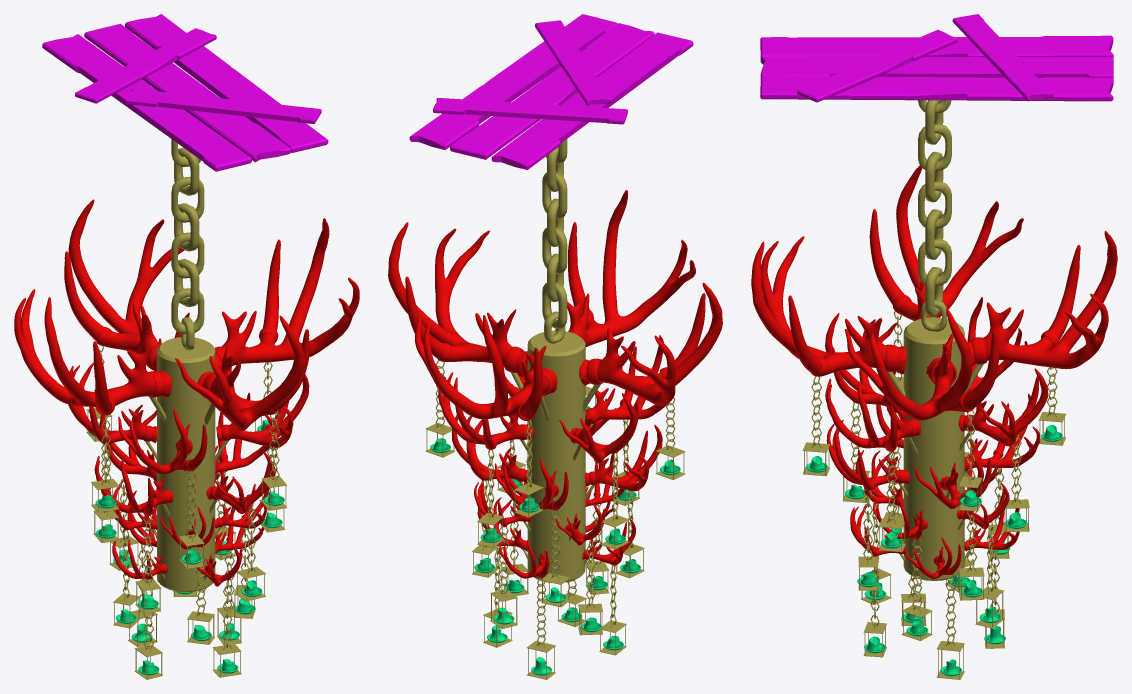
The model's file is Large_Antler_Chandelier_FBX.fbx.
3 renders of one model, left to right at view 1: azimuth 30°, elevation 25°; view 2: azimuth 150°, elevation 25°; view 3: azimuth 270°, elevation 25°, orthographic. The views are drawn at different scales.
Visible parts, largest first — view 1: polySurface696, polySurface198, polySurface931, polySurface212, polySurface209, polySurface928, polySurface932, polySurface272, candles1, polySurface929, polySurface925, polySurface998 (+18 smaller); view 2: polySurface696, polySurface931, polySurface209, polySurface272, polySurface928, polySurface932, polySurface212, polySurface198, candles1, polySurface925, polySurface929, polySurface264 (+16 smaller); view 3: polySurface696, polySurface932, polySurface198, polySurface931, polySurface928, polySurface272, polySurface209, polySurface212, candles1, polySurface929, polySurface925, polySurface264 (+20 smaller).
Boxes of the visible parts, x1,y1,x2,y2 form: polySurface696: (157, 337, 215, 592); polySurface198: (64, 199, 189, 371); polySurface931: (42, 34, 251, 171); polySurface212: (14, 289, 171, 414); polySurface209: (215, 218, 359, 369); polySurface928: (84, 23, 290, 162); polySurface932: (125, 14, 328, 152); polySurface272: (175, 315, 309, 431); candles1: (89, 420, 284, 675); polySurface929: (125, 89, 321, 123); polySurface925: (75, 28, 216, 103); polySurface998: (87, 411, 286, 678); polySurface696: (527, 330, 585, 582); polySurface931: (491, 32, 693, 169); polySurface209: (388, 222, 527, 377); polySurface272: (567, 190, 695, 346); polySurface928: (450, 23, 654, 159); polySurface932: (409, 14, 617, 149); polySurface212: (579, 282, 722, 405); polySurface198: (415, 315, 557, 419); candles1: (430, 406, 680, 675); polySurface925: (433, 98, 627, 124); polySurface929: (535, 20, 613, 105); polySurface264: (438, 372, 533, 449); polySurface696: (903, 317, 964, 580); polySurface932: (760, 75, 1113, 101); polySurface198: (967, 231, 1117, 369); polySurface931: (760, 35, 1113, 58); polySurface928: (760, 57, 1113, 78); polySurface272: (751, 236, 906, 375); polySurface209: (844, 308, 999, 420); polySurface212: (869, 165, 1023, 320); candles1: (806, 425, 1062, 676); polySurface929: (797, 29, 957, 102); polySurface925: (952, 14, 1053, 101); polySurface264: (958, 368, 1048, 446).
Bounding box in the file's own units: 119 × 212 × 119.
